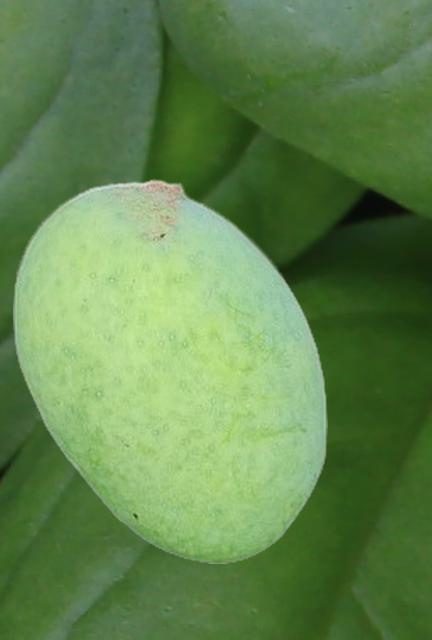green_mango: (13, 178, 326, 562)
